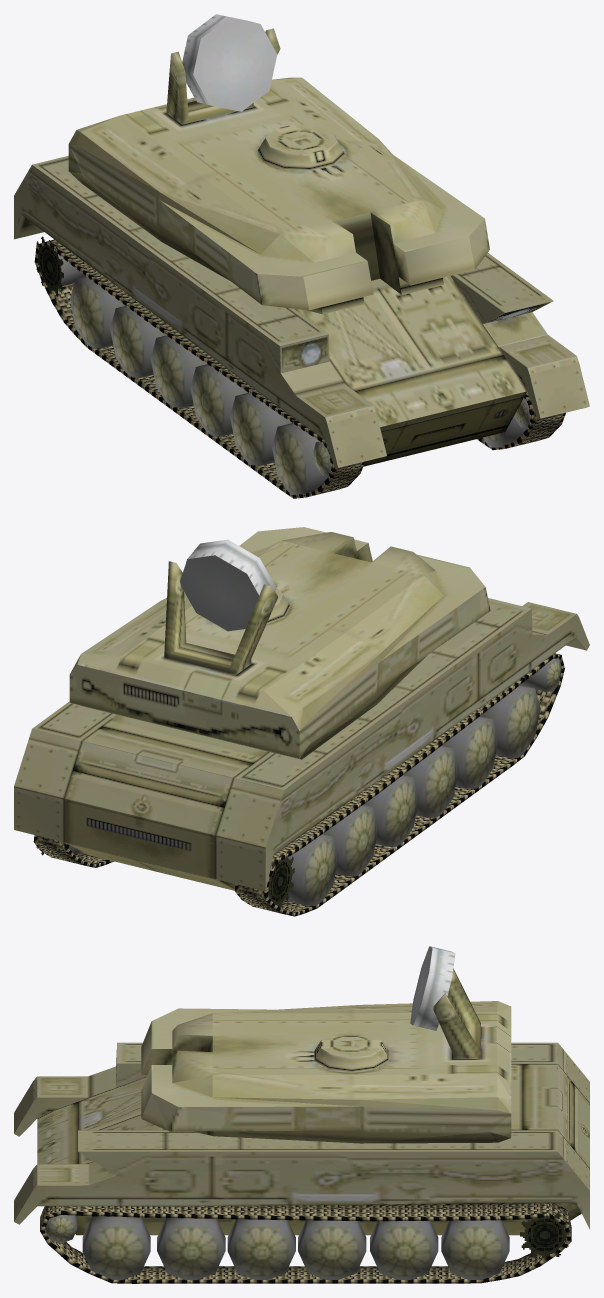
File: ZSU23.glb
3 views of the same model, one above another, from view 1: azimuth 30°, elevation 25°; view 2: azimuth 150°, elevation 25°; view 3: azimuth 270°, elevation 25° (orthographic). The views are drawn at different scales.
Parts seen in each view (by area): view 1: ZSU23, ZSU23_TURRET, ZSU_RADARDISH, ZSU_HATCH, ZSU_RADARARM; view 2: ZSU23, ZSU23_TURRET, ZSU_RADARDISH, ZSU_RADARARM; view 3: ZSU23, ZSU23_TURRET, ZSU_RADARARM, ZSU_HATCH, ZSU_RADARDISH.
Part boxes in pixels (bbox=[...]): ZSU23: bbox=[14, 156, 589, 498]; ZSU23_TURRET: bbox=[68, 77, 489, 314]; ZSU_RADARDISH: bbox=[182, 14, 277, 111]; ZSU_HATCH: bbox=[257, 124, 345, 170]; ZSU_RADARARM: bbox=[166, 28, 280, 124]; ZSU23: bbox=[14, 598, 589, 916]; ZSU23_TURRET: bbox=[69, 527, 490, 759]; ZSU_RADARDISH: bbox=[180, 539, 276, 631]; ZSU_RADARARM: bbox=[164, 561, 277, 675]; ZSU23: bbox=[14, 1042, 589, 1283]; ZSU23_TURRET: bbox=[141, 1001, 511, 1143]; ZSU_RADARARM: bbox=[433, 968, 480, 1058]; ZSU_HATCH: bbox=[314, 1030, 388, 1072]; ZSU_RADARDISH: bbox=[410, 946, 455, 1030].
Size of the model in its own units: 2.86 by 3.49 by 6.38.
Materials: 3 (3 with a texture image).
